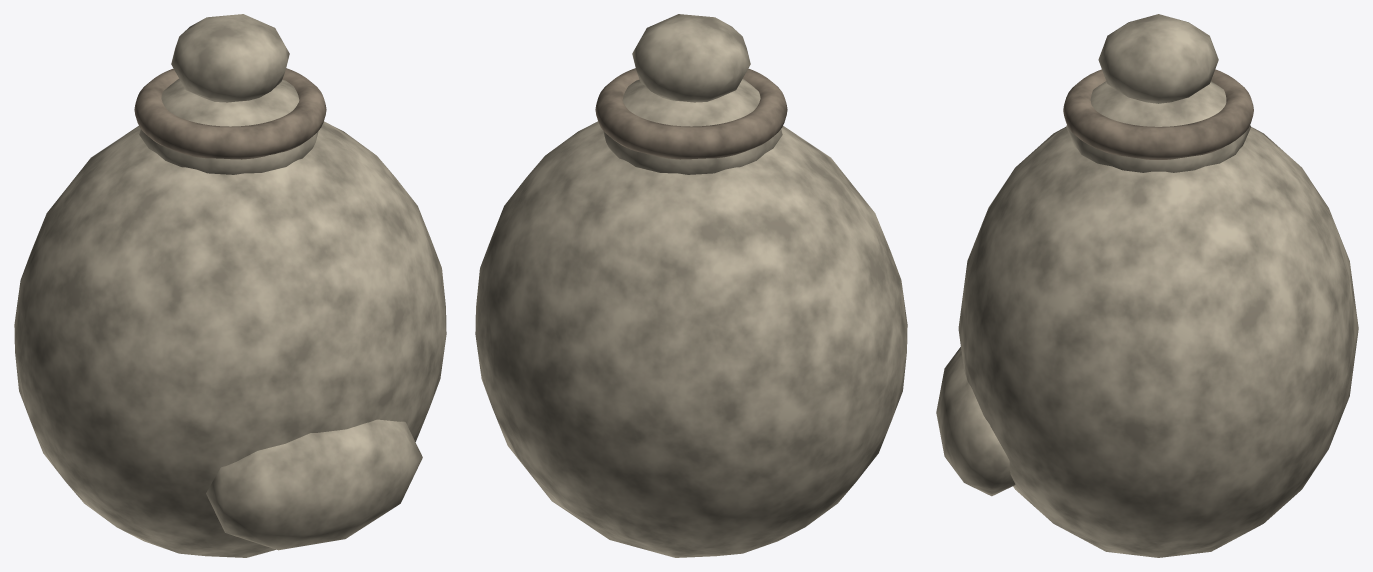
File: prop_karung.obj
3 renders of one model, left to right at view 1: azimuth 30°, elevation 25°; view 2: azimuth 150°, elevation 25°; view 3: azimuth 270°, elevation 25°, orthographic.
Parts seen in each view (by area): view 1: prop_karung; view 2: prop_karung; view 3: prop_karung.
Part boxes in pixels (left/top/right/bottom): prop_karung: left=14, top=14, right=446, bottom=557; prop_karung: left=475, top=14, right=907, bottom=557; prop_karung: left=936, top=14, right=1358, bottom=557.
Size of the model in its own units: 0.48 by 0.6175 by 0.456.
Materials: 1 (1 with a texture image).
